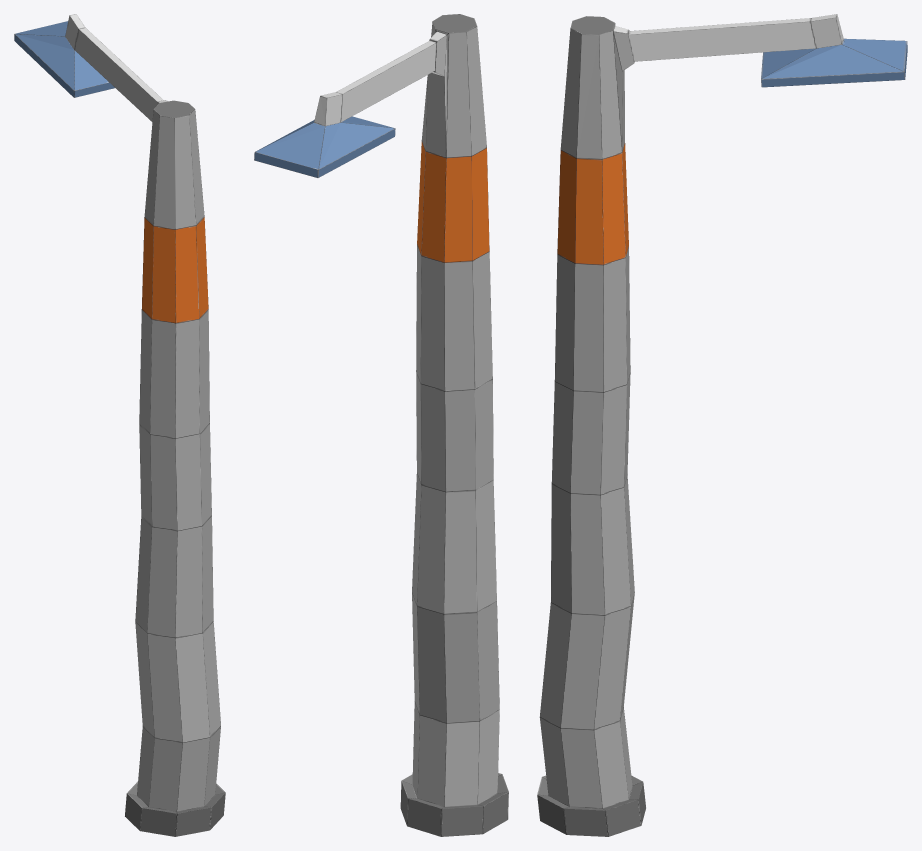
File: lamp.obj
The picture shows the model from 3 angles, left to right: view 1: azimuth 30°, elevation 25°; view 2: azimuth 150°, elevation 25°; view 3: azimuth 270°, elevation 25°; orthographic projection. The views are drawn at different scales.
Parts seen in each view (by area): view 1: Lamp.002_Cylinder.002; view 2: Lamp.002_Cylinder.002; view 3: Lamp.002_Cylinder.002.
Part boxes in pixels (x1,y1,x2,y2): Lamp.002_Cylinder.002: [14, 14, 225, 836]; Lamp.002_Cylinder.002: [254, 14, 508, 836]; Lamp.002_Cylinder.002: [537, 14, 907, 836].
Bounding box in the file's own units: 0.2446 × 2.03 × 0.8473.
Materials: 1 (1 with a texture image).
